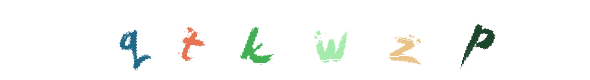K: (254, 0, 334, 80)
P: (439, 0, 519, 80)
Q: (150, 0, 230, 80)
T: (174, 0, 254, 80)
W: (271, 0, 351, 80)
Z: (329, 0, 409, 80)
